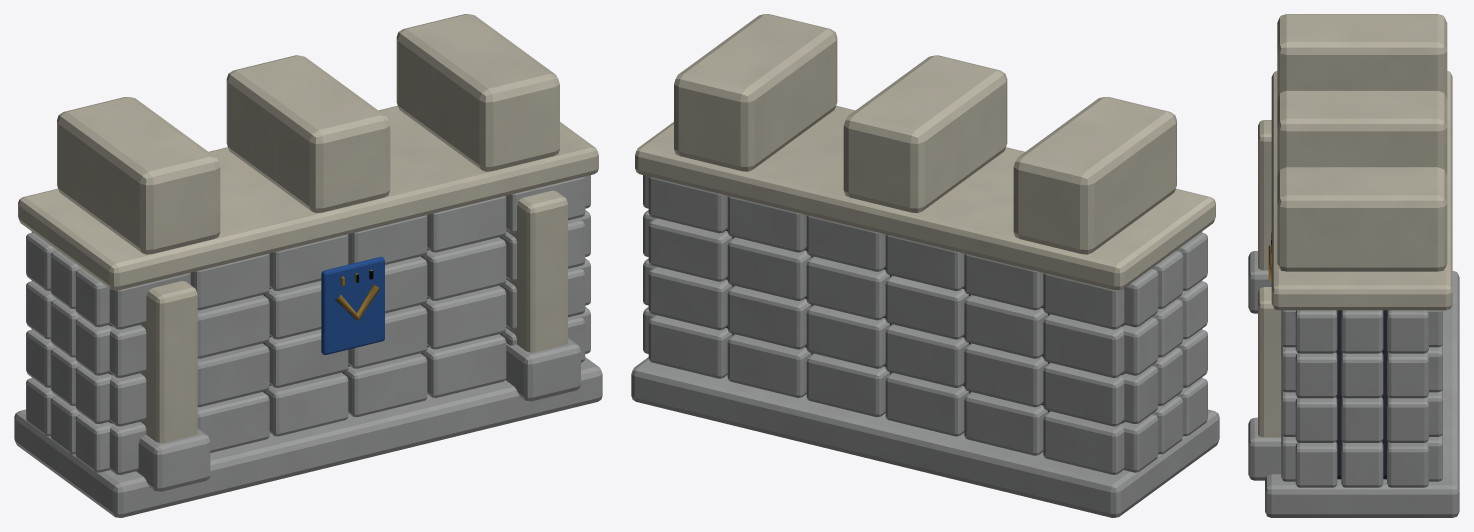
The model's file is wall_segment.glb.
3 views of the same model, side by side, from view 1: azimuth 30°, elevation 25°; view 2: azimuth 150°, elevation 25°; view 3: azimuth 270°, elevation 25° (orthographic). The views are drawn at different scales.
Visible parts, largest first — view 1: wall_segment_surface; view 2: wall_segment_surface; view 3: wall_segment_surface.
Boxes of the visible parts, x1,y1,x2,y2 form: wall_segment_surface: [14, 14, 602, 517]; wall_segment_surface: [631, 14, 1219, 517]; wall_segment_surface: [1248, 14, 1459, 517].
Bounding box in the file's own units: 1.93 × 1.23 × 0.77.
1 material, 1 textured.
